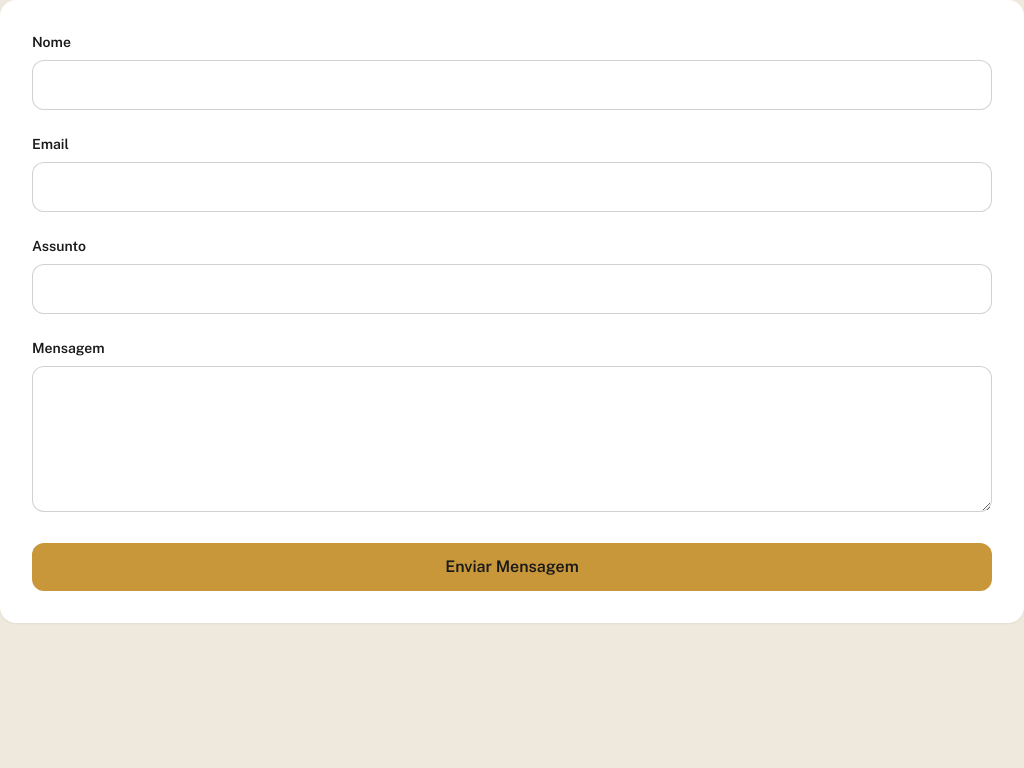
Test: ContactForm › shows success message on successful submission
The image size is (1024, 768).
Step 1. Type "Test User" into the field labelled "Nome" → (512, 85), box left=32, top=60, right=992, bottom=110
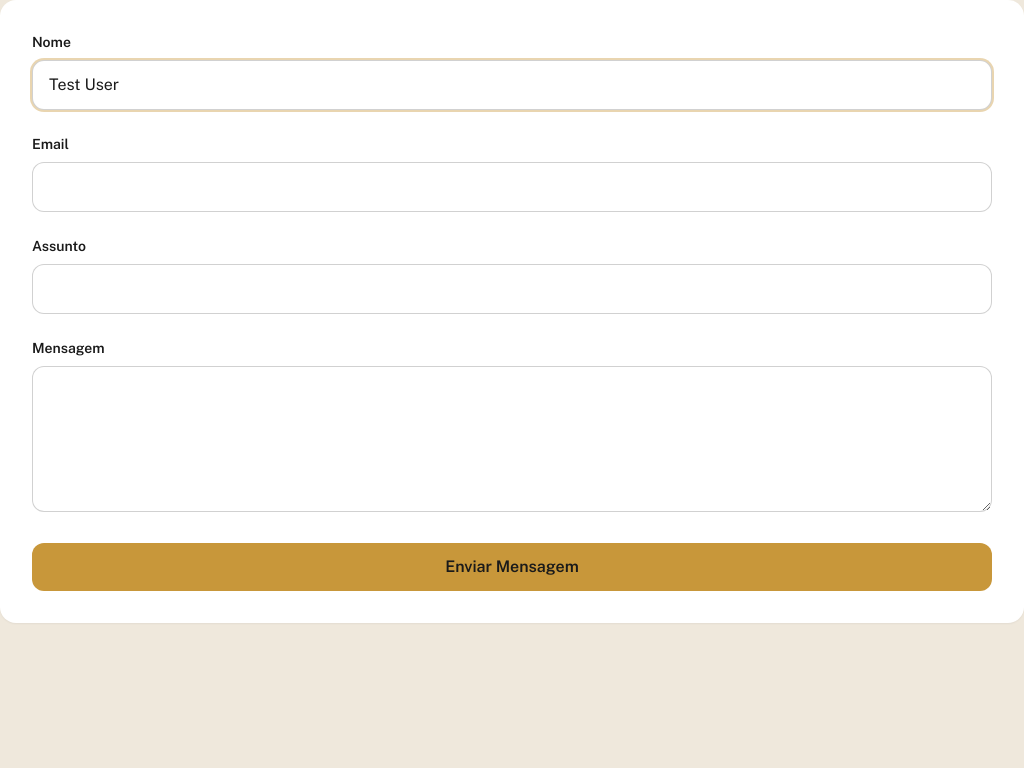
Step 2. Type "test@example.com" into the field labelled "Email" → (512, 187), box left=32, top=162, right=992, bottom=212
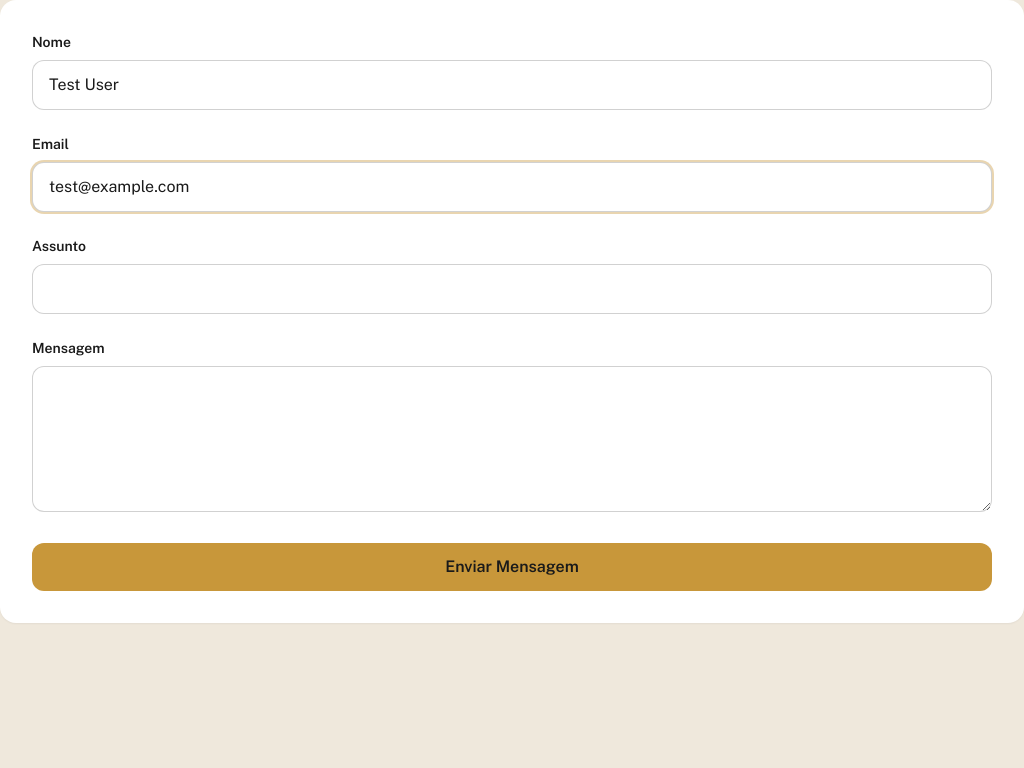
Step 3. Type "Test Subject" into the field labelled "Assunto" → (512, 289), box left=32, top=264, right=992, bottom=314
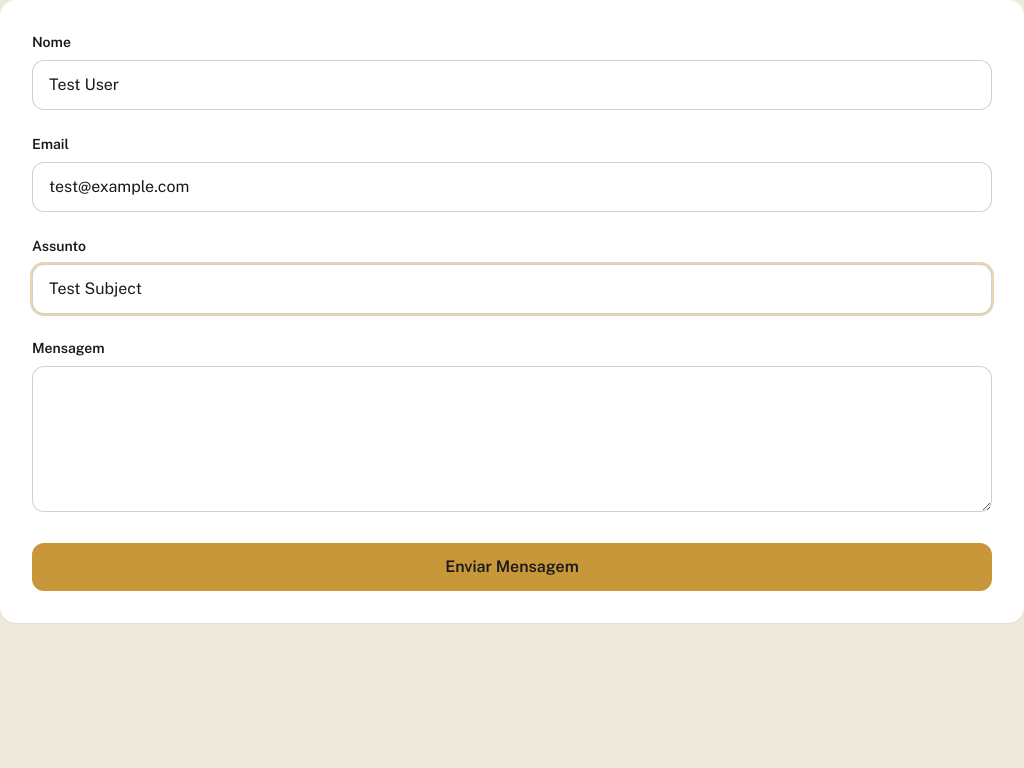
Step 4. Type "Test message" into the text box labelled "Mensagem" → (512, 439), box left=32, top=366, right=992, bottom=512
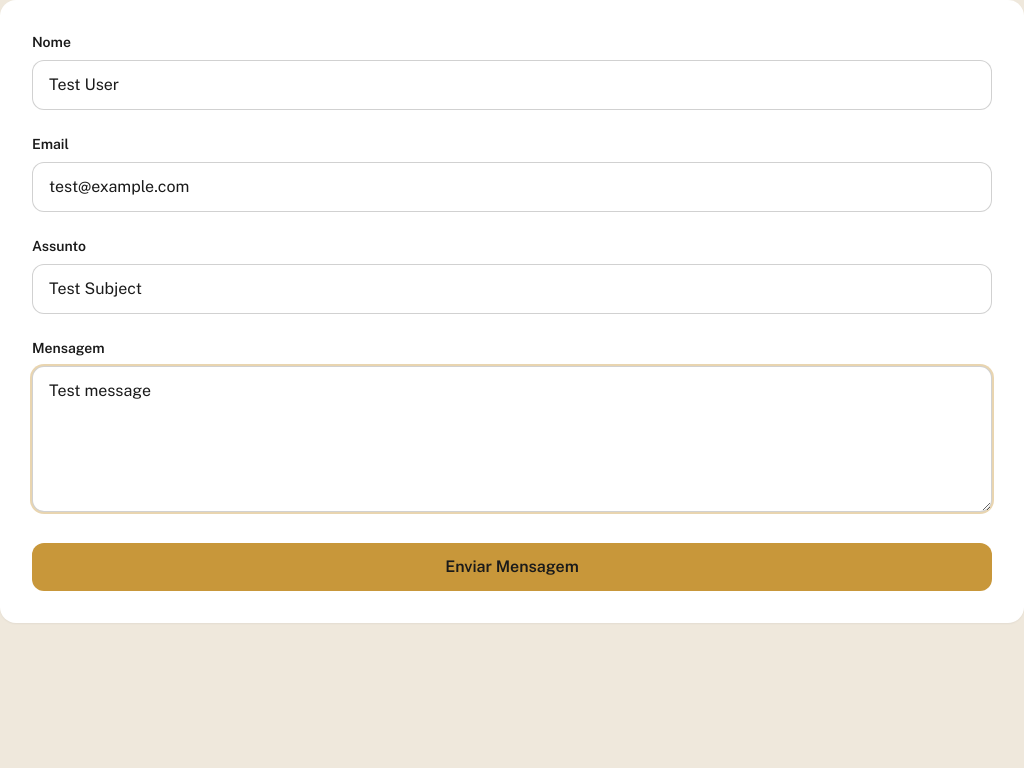
Step 5. Click the button "Enviar Mensagem" → (512, 567), box left=32, top=543, right=992, bottom=591
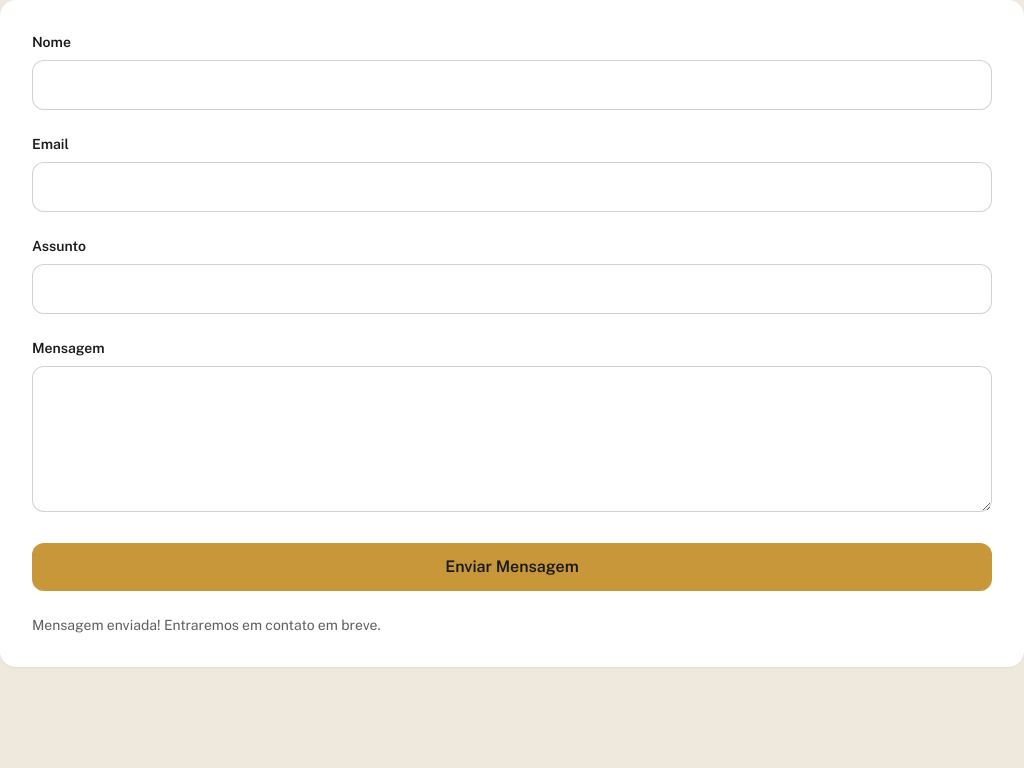
Expected: the text "Mensagem enviada! Entraremos em contato em breve." is shown, left=32, top=617, right=381, bottom=633
